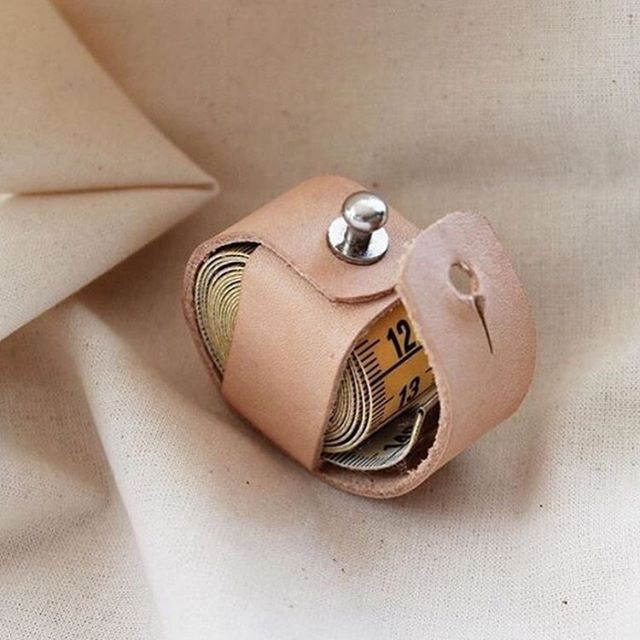cuero: (180, 175, 535, 498)
